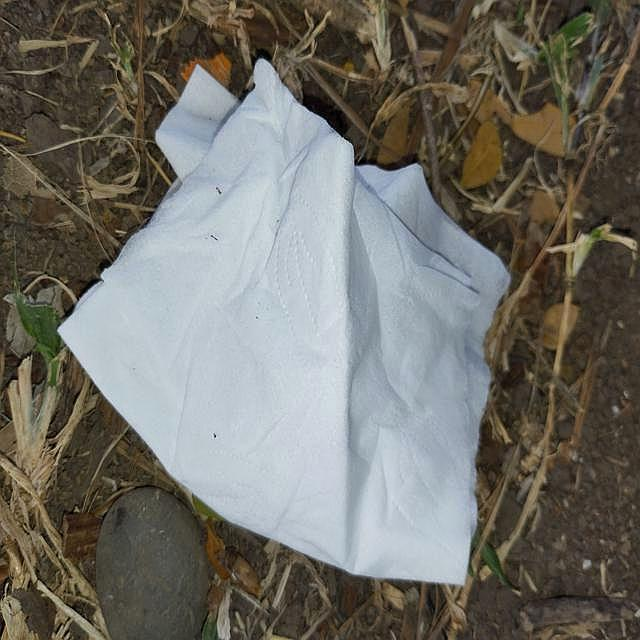Biodegradable: (9, 46, 515, 626)
